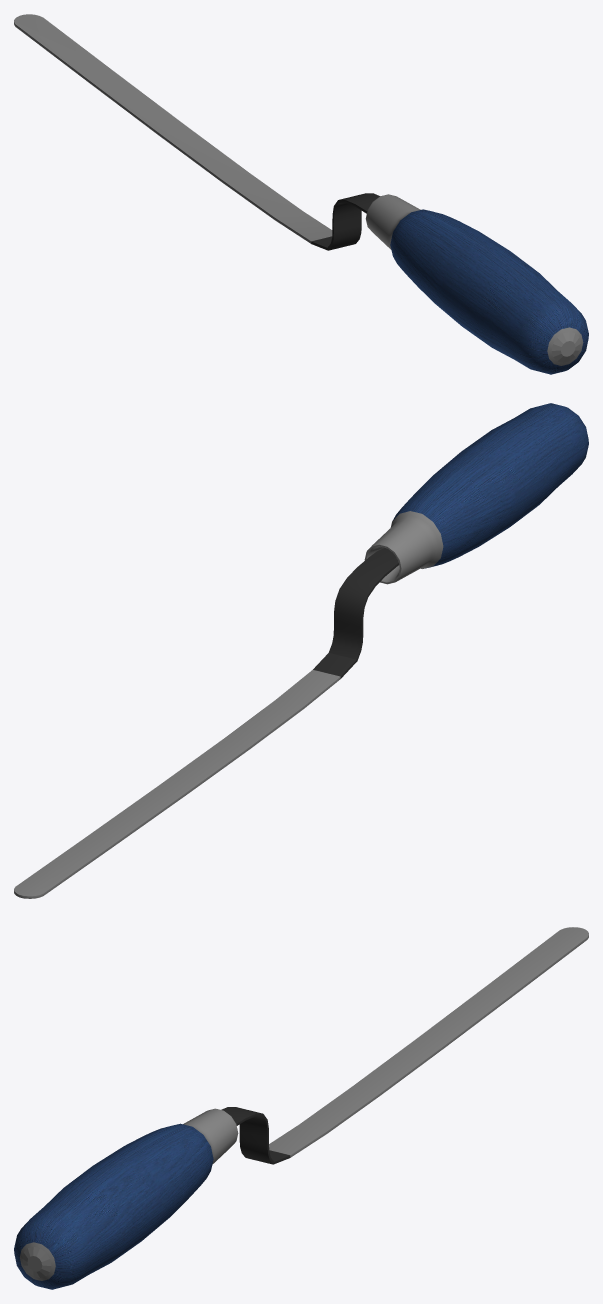
File: Trowel.fbx
The picture shows the model from 3 angles, top to bottom: view 1: azimuth 30°, elevation 25°; view 2: azimuth 150°, elevation 25°; view 3: azimuth 330°, elevation 25°; orthographic projection.
Visible parts, largest first — view 1: Handle, Blade; view 2: Handle, Blade; view 3: Handle, Blade.
Boxes of the visible parts, box(x1,y1,x2,y2) form: Handle: box(365, 194, 588, 374); Blade: box(14, 14, 379, 250); Handle: box(364, 403, 588, 584); Blade: box(14, 548, 398, 898); Handle: box(14, 1108, 238, 1289); Blade: box(221, 927, 588, 1164).
Size of the model in its own units: 1.3 by 1.79 by 15.83.
